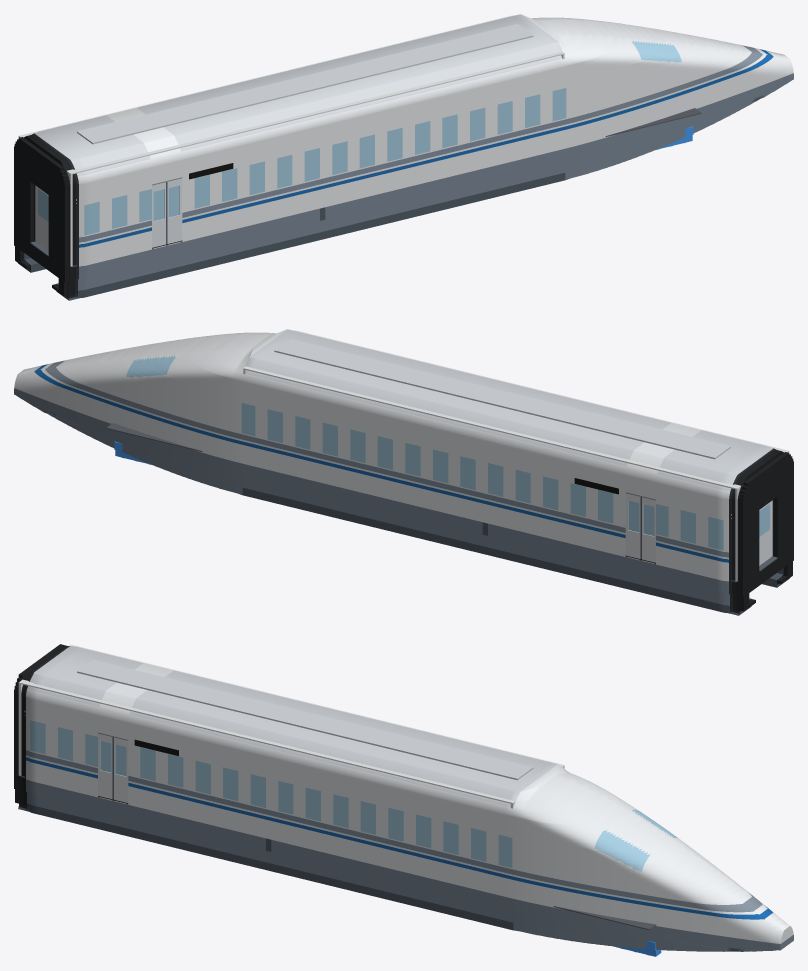
Rendered from crrc600_front.obj.
3 renders of one model, top to bottom at view 1: azimuth 30°, elevation 25°; view 2: azimuth 150°, elevation 25°; view 3: azimuth 330°, elevation 25°, orthographic.
Parts seen in each view (by area): view 1: SHELL, SHELL_roof, SHELL_diaphragm, SHELL_ceiling, EXTERNAL_DOOR_3_CG_DR1_TOGGLE_TL_-0.49_X, EXTERNAL_DOOR_4_CG_DR1_TOGGLE_TL_0.49_X, CONNECTING_DOOR_1_CG_CR_TOGGLE_TL_0.98_Z; view 2: SHELL, SHELL_roof, SHELL_diaphragm, SHELL_ceiling, EXTERNAL_DOOR_6_CG_DL1_TOGGLE_TL_-0.49_X, EXTERNAL_DOOR_7_CG_DL1_TOGGLE_TL_0.49_X, CONNECTING_DOOR_1_CG_CR_TOGGLE_TL_0.98_Z; view 3: SHELL, SHELL_roof, SHELL_ceiling, EXTERNAL_DOOR_3_CG_DR1_TOGGLE_TL_-0.49_X, EXTERNAL_DOOR_4_CG_DR1_TOGGLE_TL_0.49_X, SHELL_diaphragm.
Part boxes in pixels (bbox=[...]): SHELL: bbox=[18, 14, 793, 300]; SHELL_roof: bbox=[77, 24, 533, 144]; SHELL_diaphragm: bbox=[14, 137, 68, 296]; SHELL_ceiling: bbox=[21, 16, 562, 174]; EXTERNAL_DOOR_3_CG_DR1_TOGGLE_TL_-0.49_X: bbox=[152, 182, 167, 247]; EXTERNAL_DOOR_4_CG_DR1_TOGGLE_TL_0.49_X: bbox=[167, 178, 181, 243]; CONNECTING_DOOR_1_CG_CR_TOGGLE_TL_0.98_Z: bbox=[36, 186, 48, 250]; SHELL: bbox=[14, 329, 789, 615]; SHELL_roof: bbox=[274, 339, 730, 459]; SHELL_diaphragm: bbox=[739, 452, 793, 611]; SHELL_ceiling: bbox=[245, 331, 786, 489]; EXTERNAL_DOOR_6_CG_DL1_TOGGLE_TL_-0.49_X: bbox=[640, 497, 655, 562]; EXTERNAL_DOOR_7_CG_DL1_TOGGLE_TL_0.49_X: bbox=[626, 493, 640, 558]; CONNECTING_DOOR_1_CG_CR_TOGGLE_TL_0.98_Z: bbox=[759, 501, 771, 565]; SHELL: bbox=[18, 644, 793, 951]; SHELL_roof: bbox=[77, 660, 533, 780]; SHELL_ceiling: bbox=[20, 645, 562, 803]; EXTERNAL_DOOR_3_CG_DR1_TOGGLE_TL_-0.49_X: bbox=[98, 733, 113, 799]; EXTERNAL_DOOR_4_CG_DR1_TOGGLE_TL_0.49_X: bbox=[113, 737, 128, 802]; SHELL_diaphragm: bbox=[14, 644, 60, 803].
Size of the model in its own units: 27.16 by 4.68 by 3.42.
Materials: 1 (1 with a texture image).
